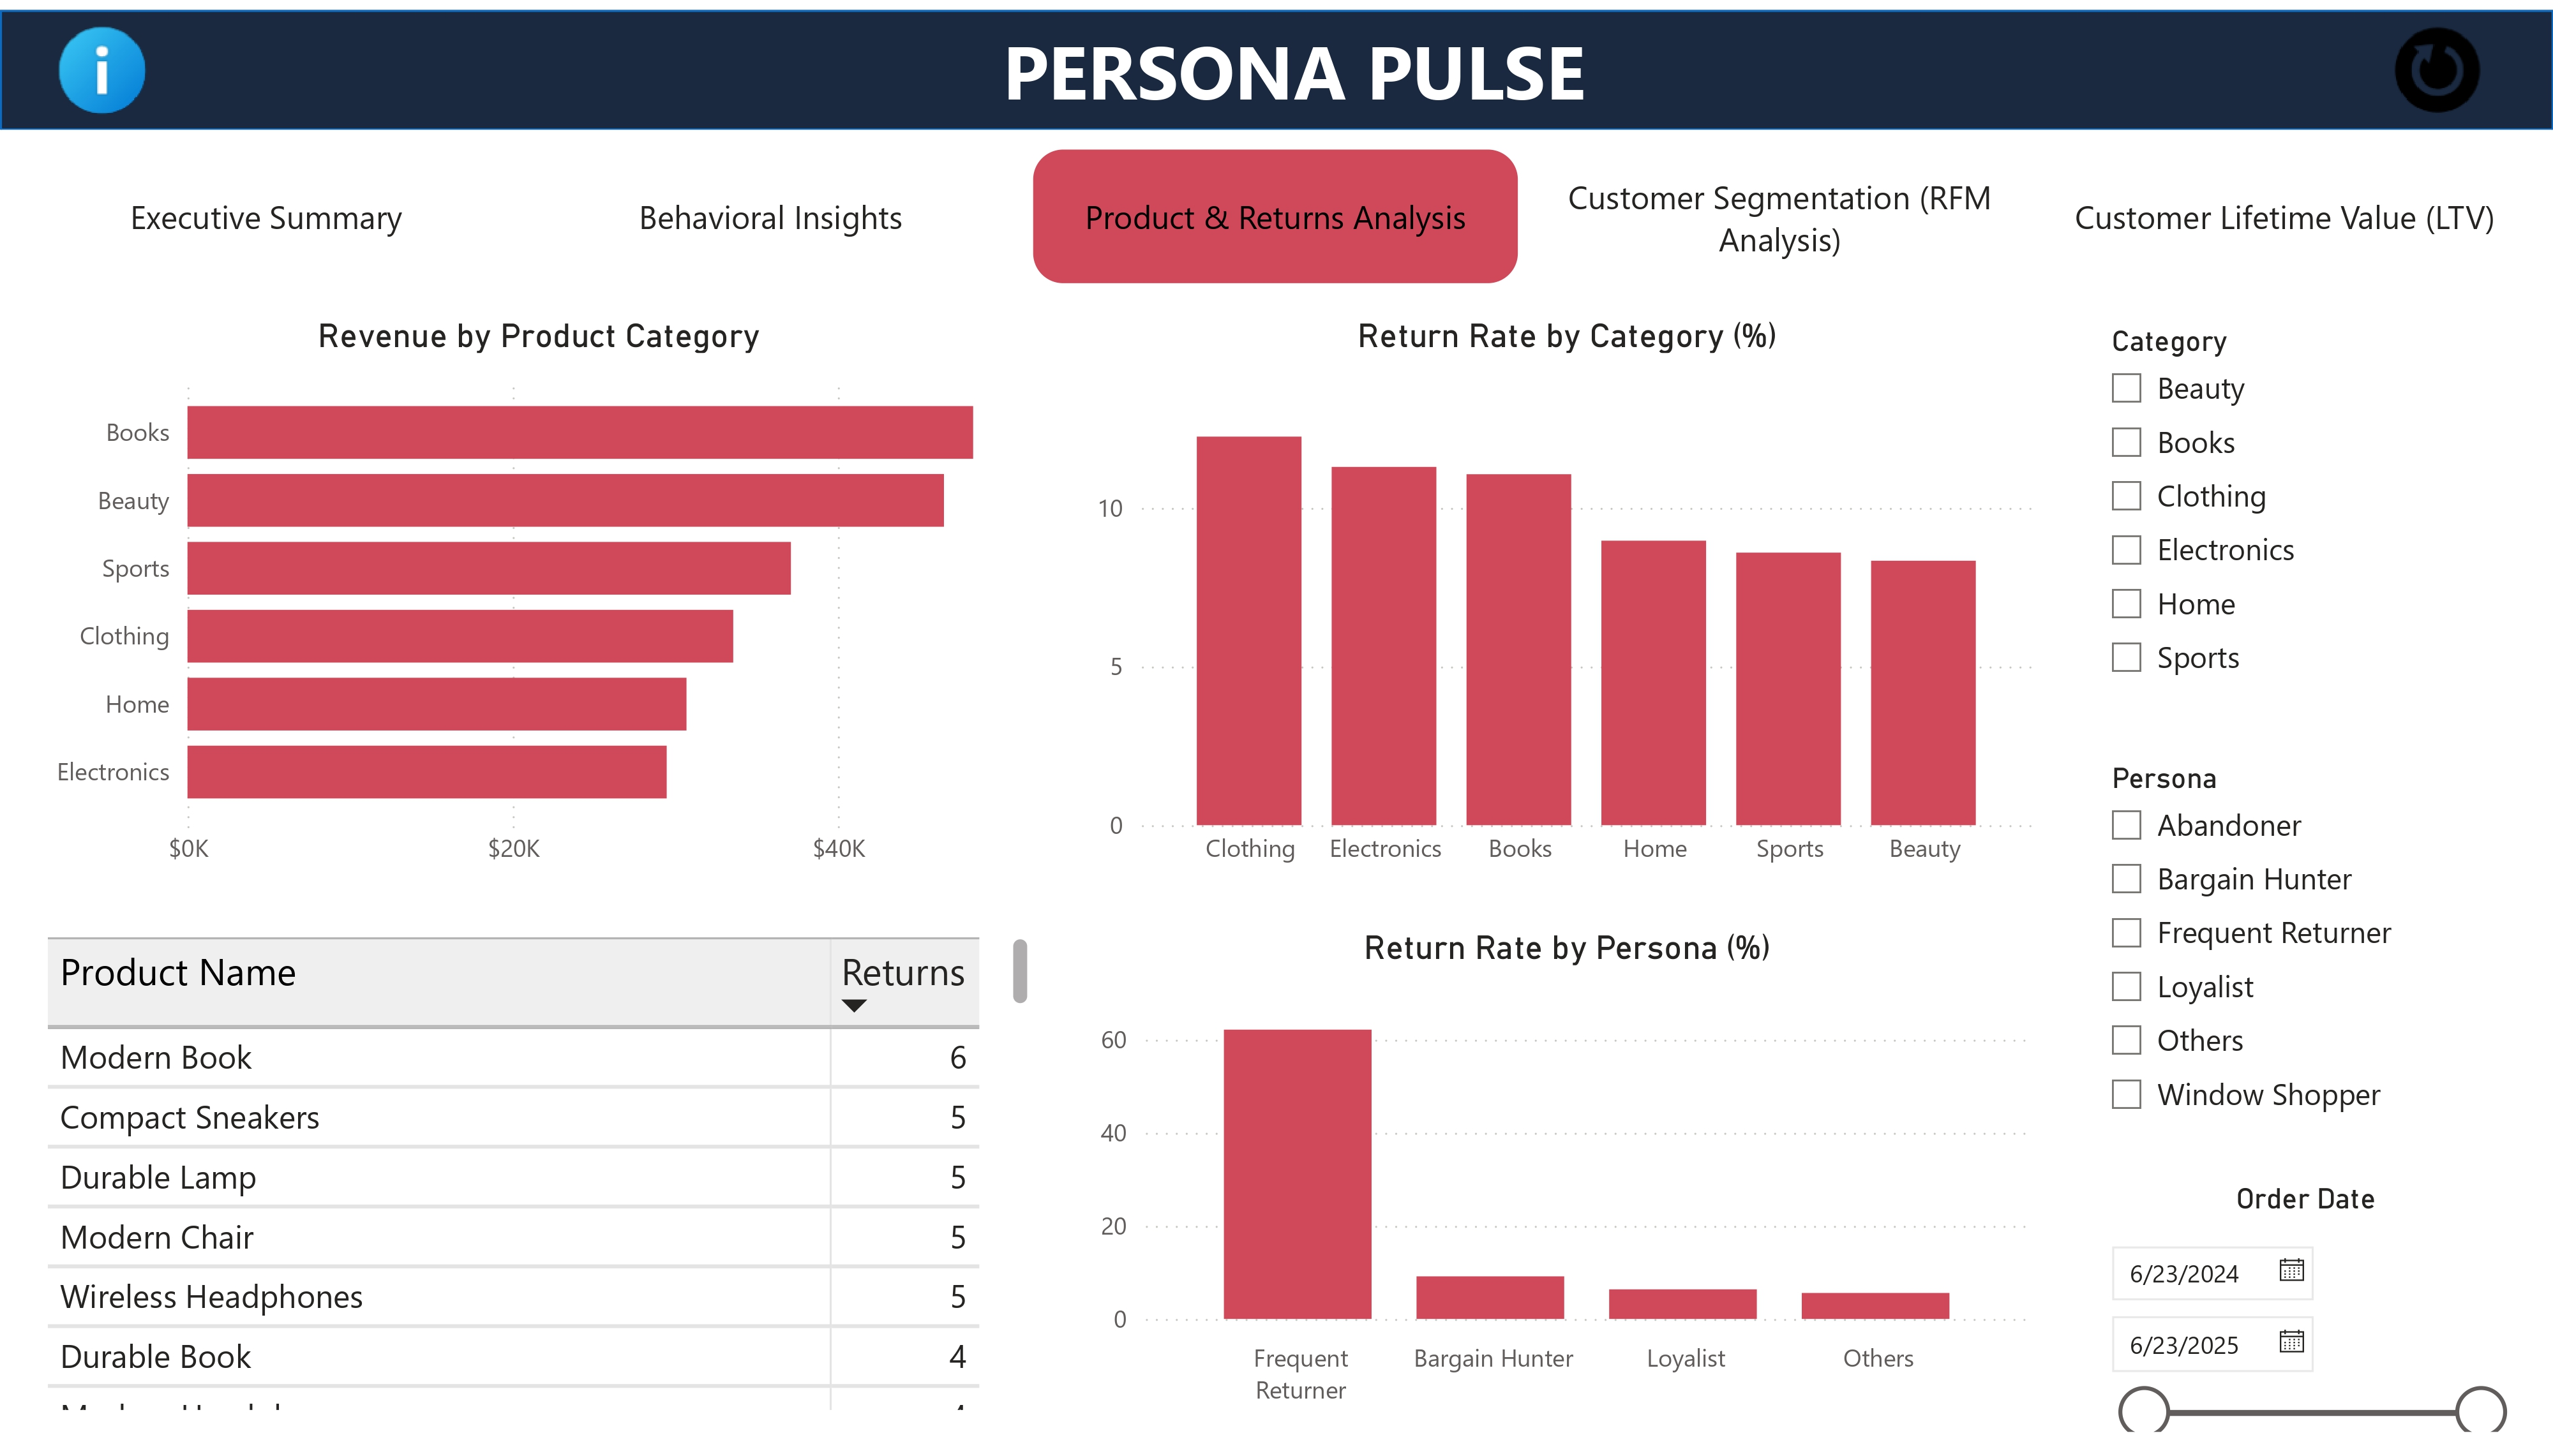

The dashboard page shown, as its layout file describes it:
{"tool":"powerbi","page":{"name":"Product & Returns Analysis","canvas":[1280,720],"ordinal":2},"visuals":[{"type":"clusteredBarChart","title":"Revenue by Product Category","fields":{"Category":["products.category"],"Y":["returns.Revenue by Category"]},"box":[12.3,146.8,514.6,297.8],"z":0},{"type":"slicer","fields":{"Values":["products.category"]},"box":[1040.1,146.8,230.5,212.7],"z":1000},{"type":"clusteredColumnChart","title":"Return Rate by Category (%)","fields":{"Category":["products.category"],"Y":["orders.Return Rate (%)"]},"box":[539.3,146.8,491.3,297.8],"z":2000},{"type":"tableEx","fields":{"Values":["products.name","orders.Returns Count"]},"box":[12.3,454.2,514.6,259.3],"z":3000},{"type":"clusteredColumnChart","title":"Return Rate by Persona (%)","fields":{"Y":["orders.Return Rate by Persona (%)"],"Category":["users.persona"]},"box":[539.3,454.2,491.3,259.3],"z":4000},{"type":"slicer","fields":{"Values":["users.persona"]},"box":[1040.1,366.4,230.5,207.2],"z":5000},{"type":"slicer","title":"Order Date","fields":{"Values":["orders.order_date"]},"box":[1040.1,581.8,230.5,131.7],"z":6000},{"type":"shape","box":[0,0,1280.3,60.4],"z":7000},{"type":"textbox","box":[374.6,0,547.5,60.4],"z":8000},{"type":"pageNavigator","box":[12.3,70,1258.3,67.2],"z":9000},{"type":"actionButton","box":[1181.5,0,82.3,60.4],"z":10000},{"type":"actionButton","box":[20.6,0,64.5,60.4],"z":10001}]}

Visuals, with their boxes in screenshot pixels (x1, y1, x2, y2), scaled from the page's 1280x720 canvas onto the 2553x1456 screenshot:
"Revenue by Product Category" clusteredBarChart: {"left": 24, "top": 297, "right": 1051, "bottom": 899}
slicer - products.category: {"left": 2074, "top": 297, "right": 2534, "bottom": 727}
"Return Rate by Category (%)" clusteredColumnChart: {"left": 1075, "top": 297, "right": 2056, "bottom": 899}
tableEx - products.name x orders.Returns Count: {"left": 24, "top": 919, "right": 1051, "bottom": 1443}
"Return Rate by Persona (%)" clusteredColumnChart: {"left": 1075, "top": 919, "right": 2056, "bottom": 1443}
slicer - users.persona: {"left": 2074, "top": 741, "right": 2534, "bottom": 1160}
"Order Date" slicer: {"left": 2074, "top": 1177, "right": 2534, "bottom": 1443}
shape: {"left": 0, "top": 0, "right": 2552, "bottom": 122}
textbox: {"left": 747, "top": 0, "right": 1839, "bottom": 122}
pageNavigator: {"left": 24, "top": 142, "right": 2534, "bottom": 278}
actionButton: {"left": 2356, "top": 0, "right": 2520, "bottom": 122}
actionButton: {"left": 41, "top": 0, "right": 170, "bottom": 122}
